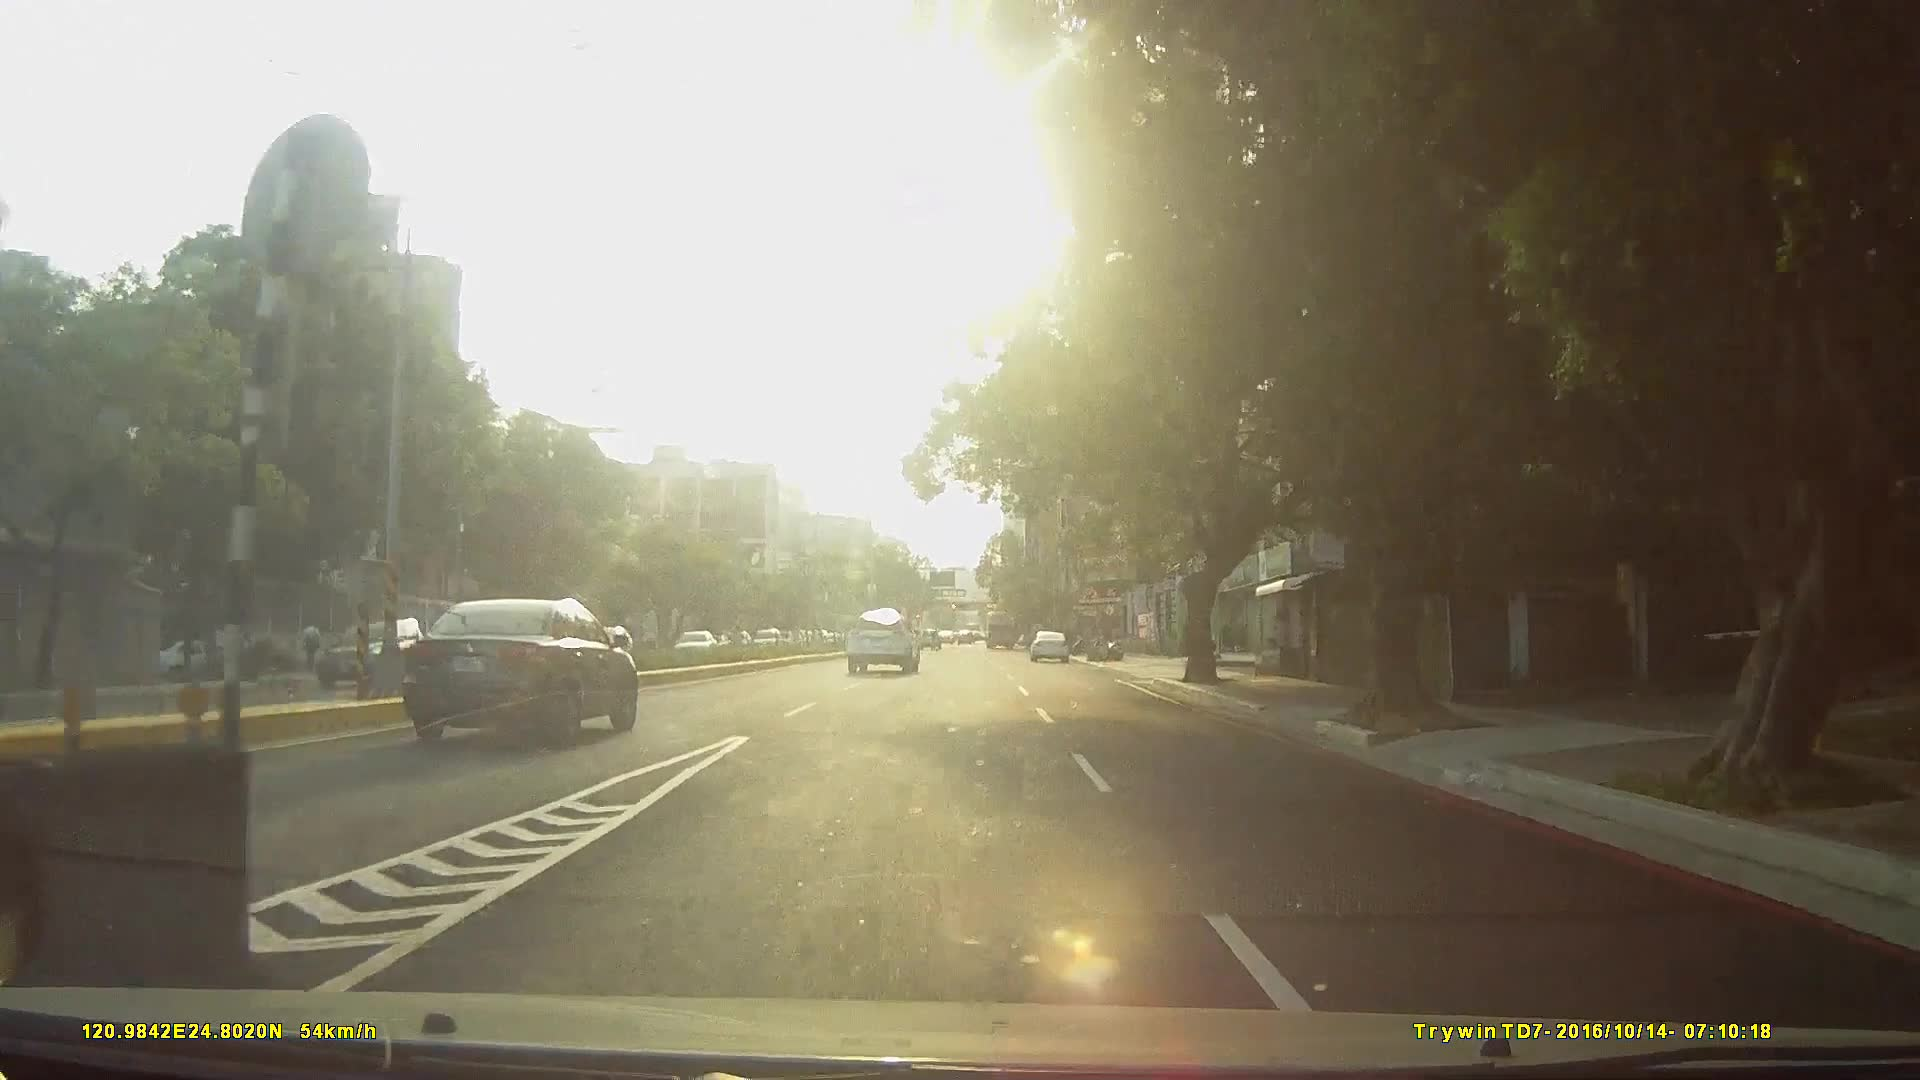pedestrian: (296, 623, 321, 676)
vehicle: (405, 591, 642, 741), (305, 616, 438, 688), (843, 605, 921, 672), (1027, 625, 1070, 662), (982, 606, 1018, 649)
